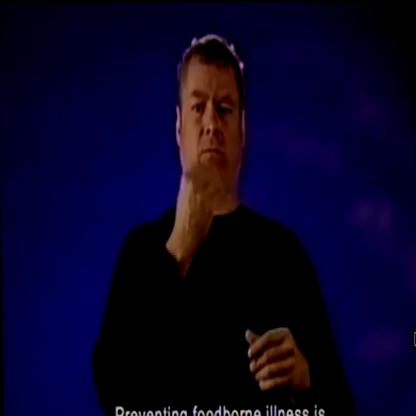Food: (166, 30, 256, 246)
